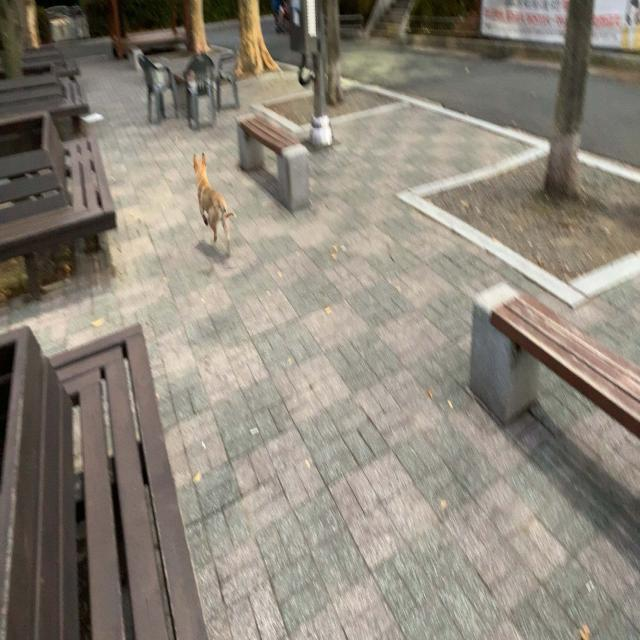Dog: (193, 153, 236, 255)
